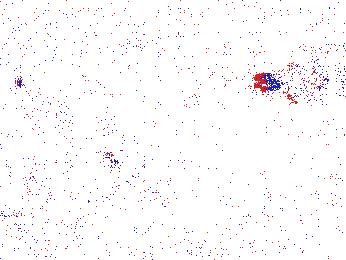flame jellyfish: (255, 57, 334, 108), (103, 150, 158, 217), (1, 167, 32, 217)
